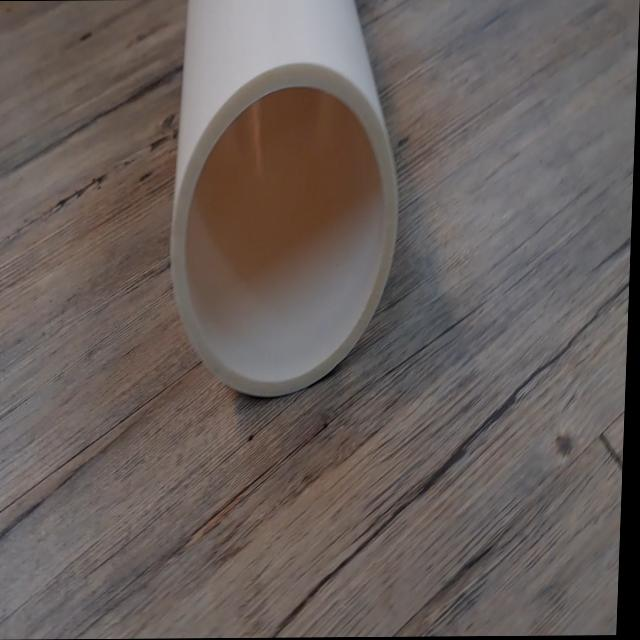CORAL: (147, 0, 412, 429)
